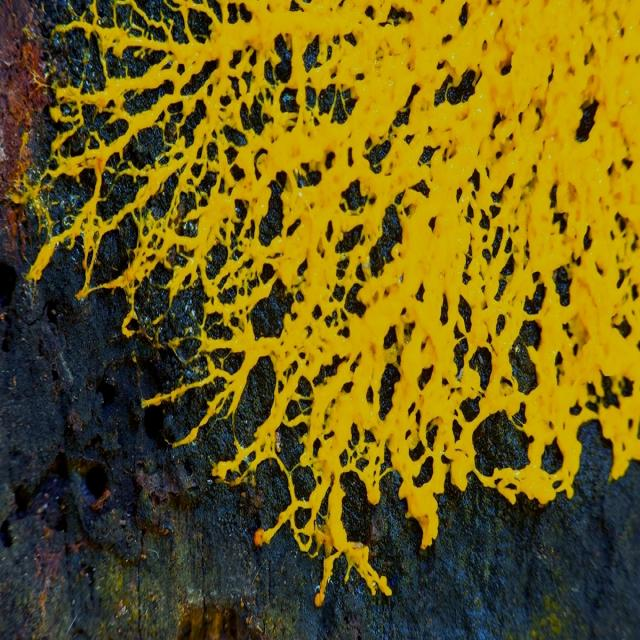Dog_vomit_slime_mold: (5, 0, 638, 611)
